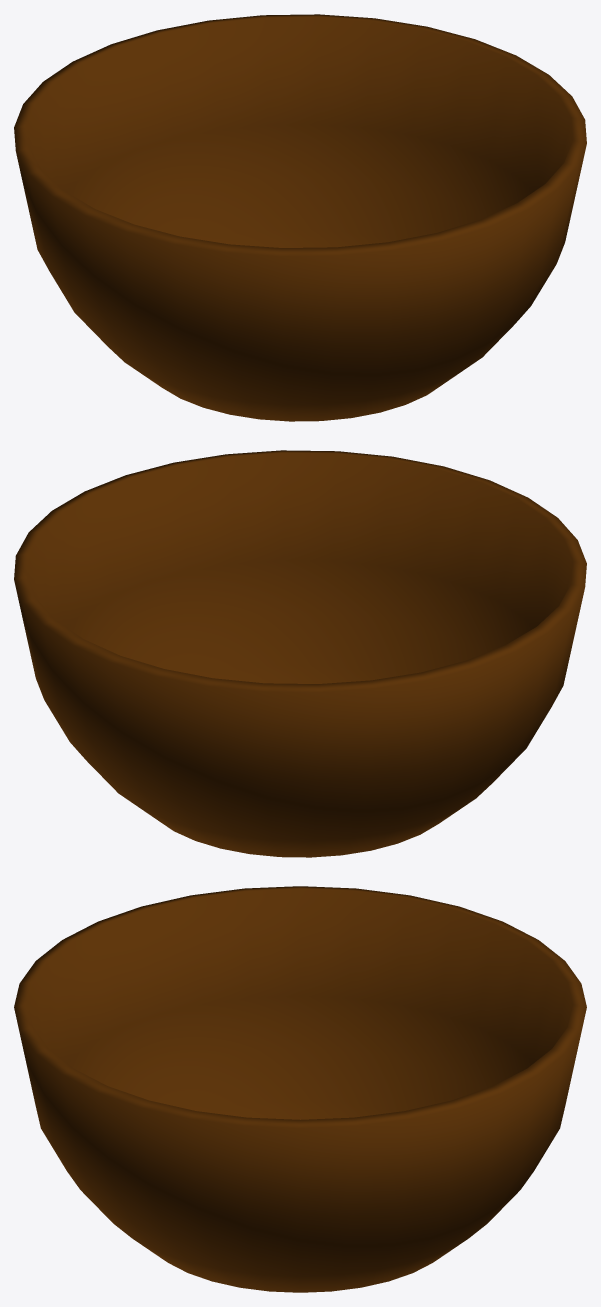
The model's file is FruitBowl.fbx.
The picture shows the model from 3 angles, top to bottom: view 1: azimuth 30°, elevation 25°; view 2: azimuth 150°, elevation 25°; view 3: azimuth 270°, elevation 25°; orthographic projection.
Parts seen in each view (by area): view 1: Sphere; view 2: Sphere; view 3: Sphere.
Part boxes in pixels (x1,y1,x2,y2): Sphere: [14, 14, 586, 421]; Sphere: [14, 450, 586, 857]; Sphere: [14, 886, 586, 1292].
Size of the model in its own units: 200 by 85.05 by 200.
